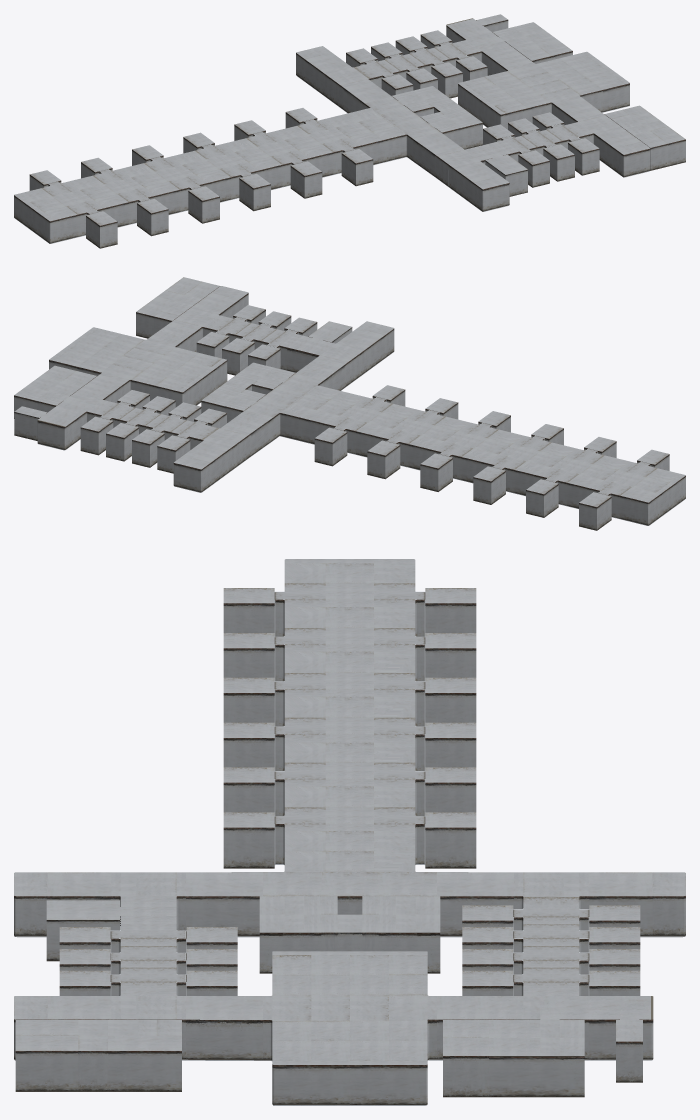
Rendered from Hall03.fbx.
3 views of the same model, one above another, from view 1: azimuth 30°, elevation 25°; view 2: azimuth 150°, elevation 25°; view 3: azimuth 270°, elevation 25° (orthographic). The views are drawn at different scales.
Parts seen in each view (by area): view 1: Cube; view 2: Cube; view 3: Cube.
Part boxes in pixels (bbox=[...]): Cube: bbox=[14, 14, 685, 248]; Cube: bbox=[14, 277, 685, 530]; Cube: bbox=[14, 559, 685, 1105].
Bounding box in the file's own units: 124 × 4.71 × 69.59.
3 materials, 3 textured.
